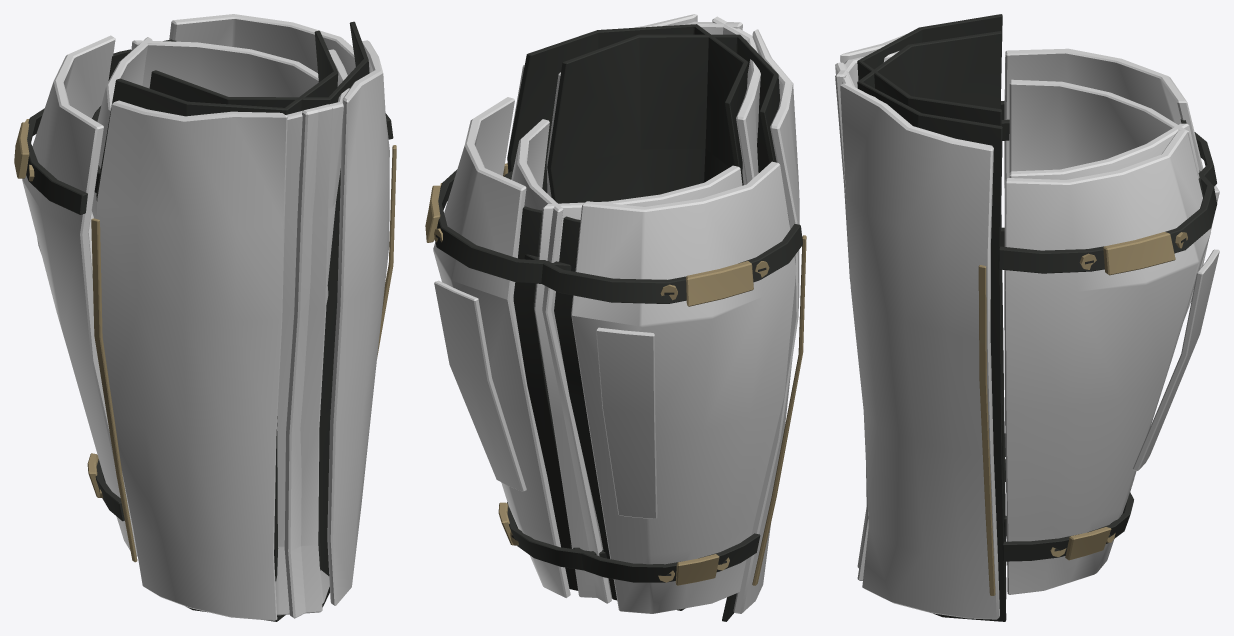
The model's file is field-greaves.glb.
The picture shows the model from 3 angles, left to right: view 1: azimuth 30°, elevation 25°; view 2: azimuth 150°, elevation 25°; view 3: azimuth 270°, elevation 25°; orthographic projection.
Visible parts, largest first — view 1: greave_L, greave_R; view 2: greave_L, greave_R; view 3: greave_R, greave_L.
Part boxes in pixels (x1,y1,x2,y2): greave_L: (14,30,349,621); greave_R: (92,14,396,615); greave_L: (504,21,806,621); greave_R: (425,14,760,610); greave_R: (835,31,1219,621); greave_L: (835,14,1219,598).
Bounding box in the file's own units: 0.9124 × 1.38 × 0.9343.
